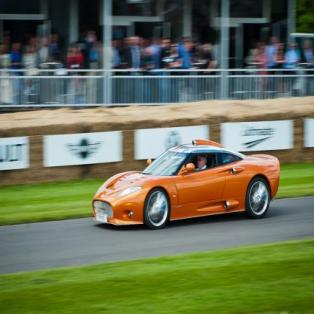Auto: (90, 136, 280, 231)
